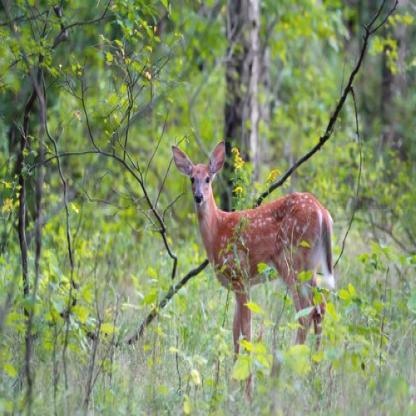Deer: (169, 137, 337, 386)
